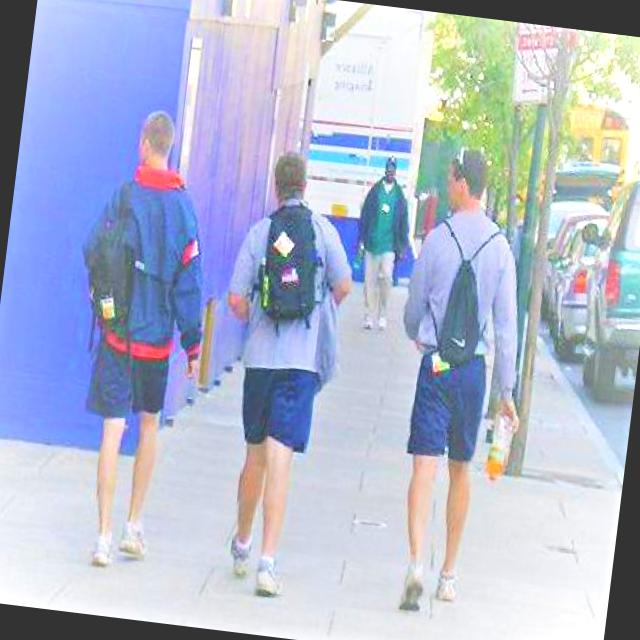Person: (364, 140, 551, 620), (50, 99, 237, 578), (190, 137, 370, 597), (348, 144, 424, 336)
